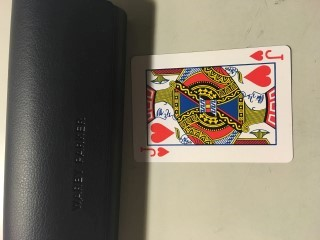JackOfHearts: (131, 45, 292, 163)
